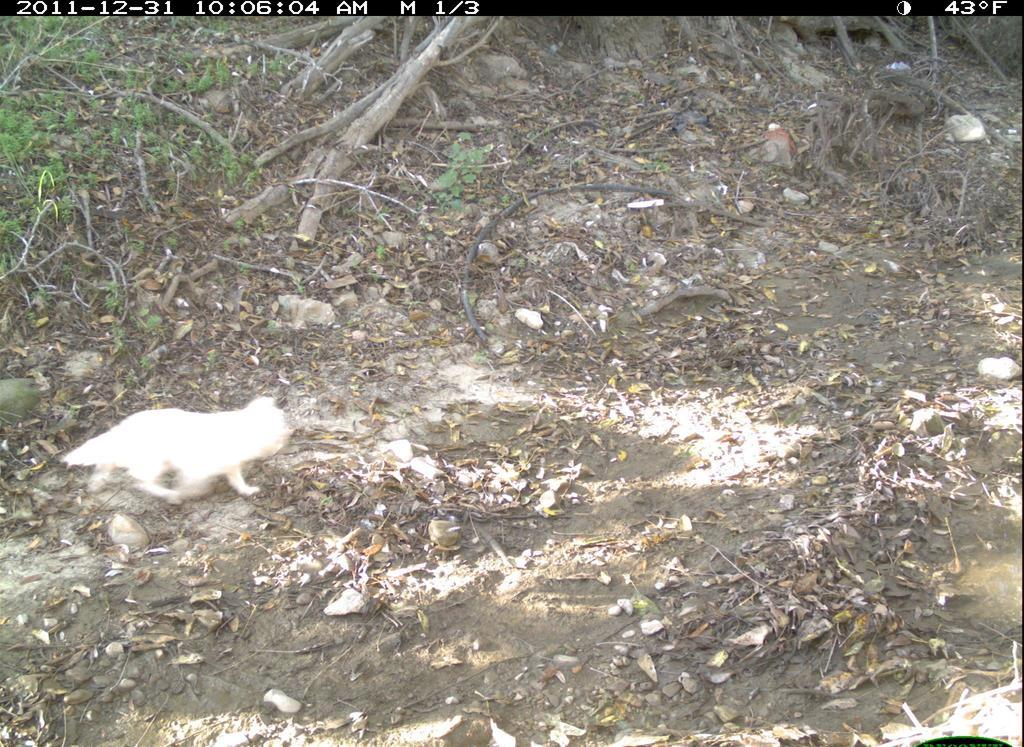dog: (53, 377, 301, 527)
